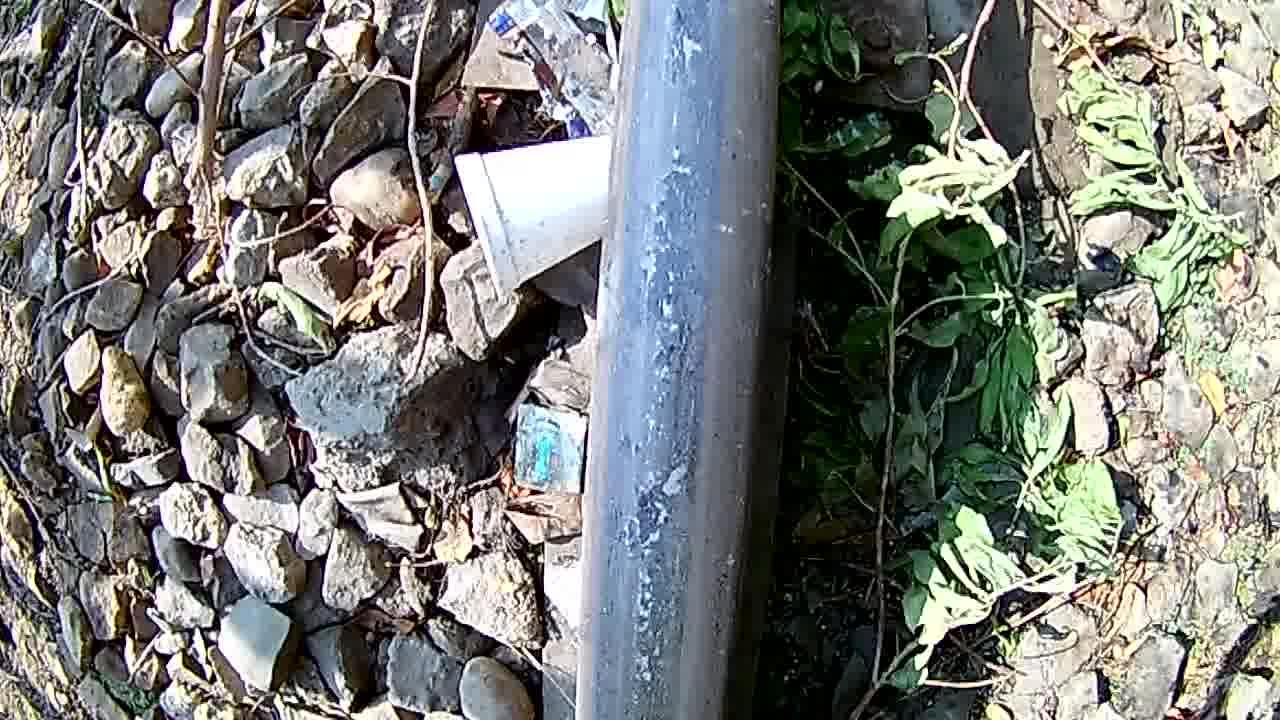crack: (594, 0, 769, 720)
